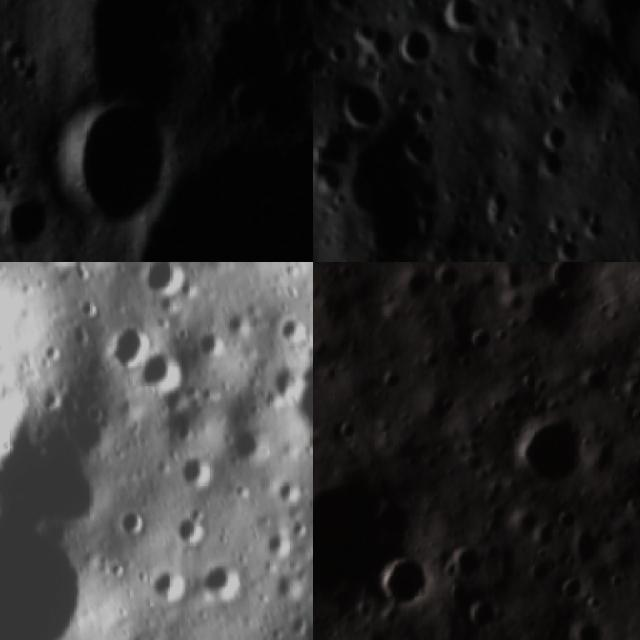crater: (29, 149, 313, 262), (45, 86, 188, 248), (342, 115, 451, 262), (313, 467, 422, 599), (72, 0, 209, 96), (0, 521, 98, 640), (502, 410, 587, 490), (0, 187, 50, 262), (371, 554, 429, 611), (398, 121, 448, 175), (341, 76, 388, 132), (441, 534, 493, 582), (112, 319, 156, 373), (139, 344, 188, 391), (196, 560, 248, 602), (360, 15, 402, 66), (458, 596, 505, 637), (175, 505, 213, 553), (559, 58, 596, 107), (534, 113, 580, 151), (268, 362, 306, 408), (397, 20, 435, 65), (232, 417, 270, 462), (536, 142, 570, 192), (476, 179, 513, 221), (466, 26, 502, 68), (567, 529, 607, 566), (393, 265, 434, 300), (439, 0, 483, 32), (147, 262, 188, 296), (563, 609, 605, 640), (574, 364, 616, 394), (152, 566, 186, 601), (183, 454, 214, 491), (280, 309, 310, 346), (557, 575, 593, 604), (429, 262, 466, 290), (268, 528, 297, 560), (280, 474, 310, 502), (280, 569, 308, 598), (526, 521, 554, 549), (469, 323, 491, 352), (331, 420, 356, 445), (120, 508, 147, 531), (313, 33, 326, 77), (556, 0, 597, 13)
